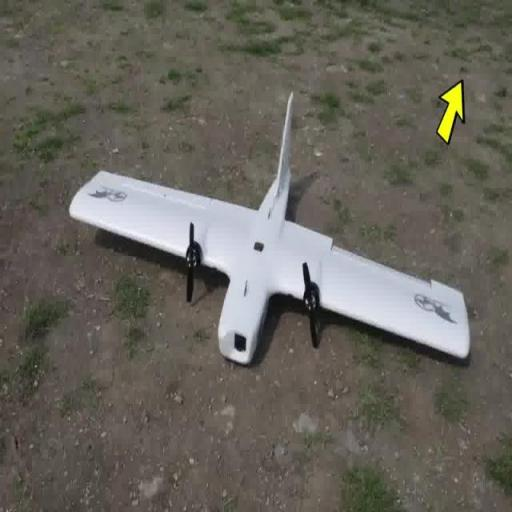uav: (66, 90, 473, 375)
